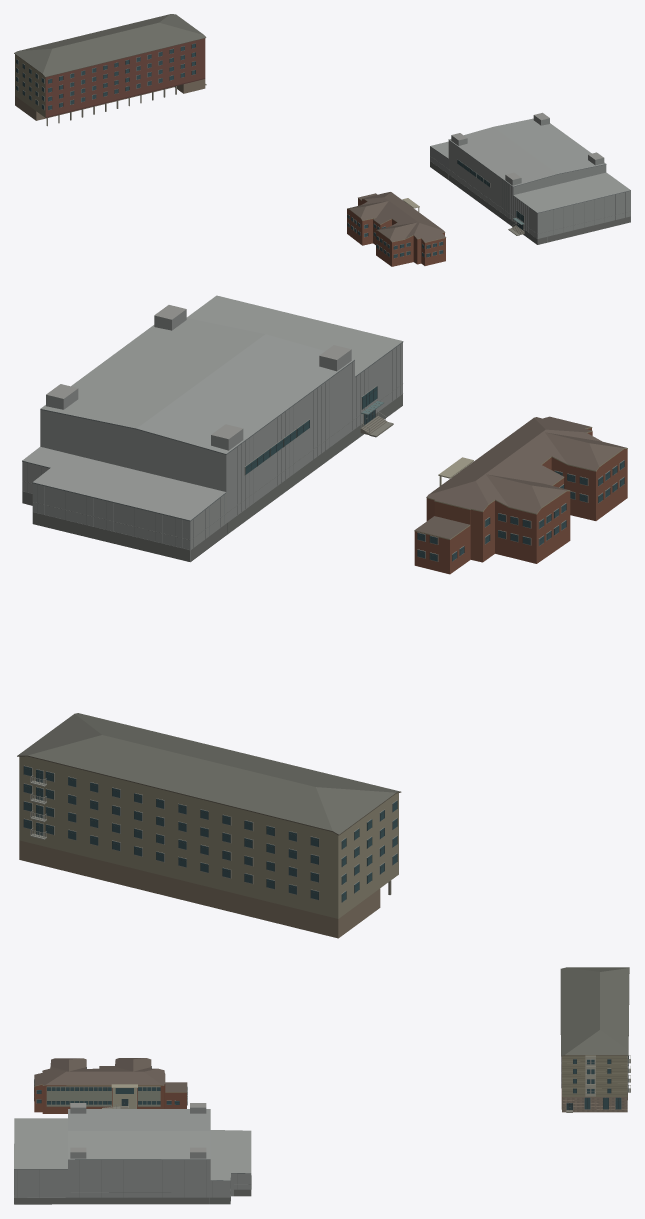
Rendered from site.glb.
3 renders of one model, top to bottom at view 1: azimuth 30°, elevation 25°; view 2: azimuth 150°, elevation 25°; view 3: azimuth 270°, elevation 25°, orthographic. The views are drawn at different scales.
Visible parts, largest first — view 1: roof-e45bcd54, alder-suites-950, roof-b98e8e3e; view 2: roof-e45bcd54, alder-suites-950, roof-b98e8e3e; view 3: roof-e45bcd54, alder-suites-950, roof-b98e8e3e.
Part boxes in pixels (x1,y1,x2,y2): roof-e45bcd54: (430, 112, 630, 244); alder-suites-950: (14, 14, 206, 126); roof-b98e8e3e: (347, 192, 446, 266); roof-e45bcd54: (22, 295, 403, 562); alder-suites-950: (17, 713, 401, 938); roof-b98e8e3e: (414, 416, 627, 574); roof-e45bcd54: (14, 1103, 251, 1204); alder-suites-950: (560, 967, 630, 1112); roof-b98e8e3e: (34, 1058, 187, 1113).
Bounding box in the file's own units: 120 × 20.44 × 171.
